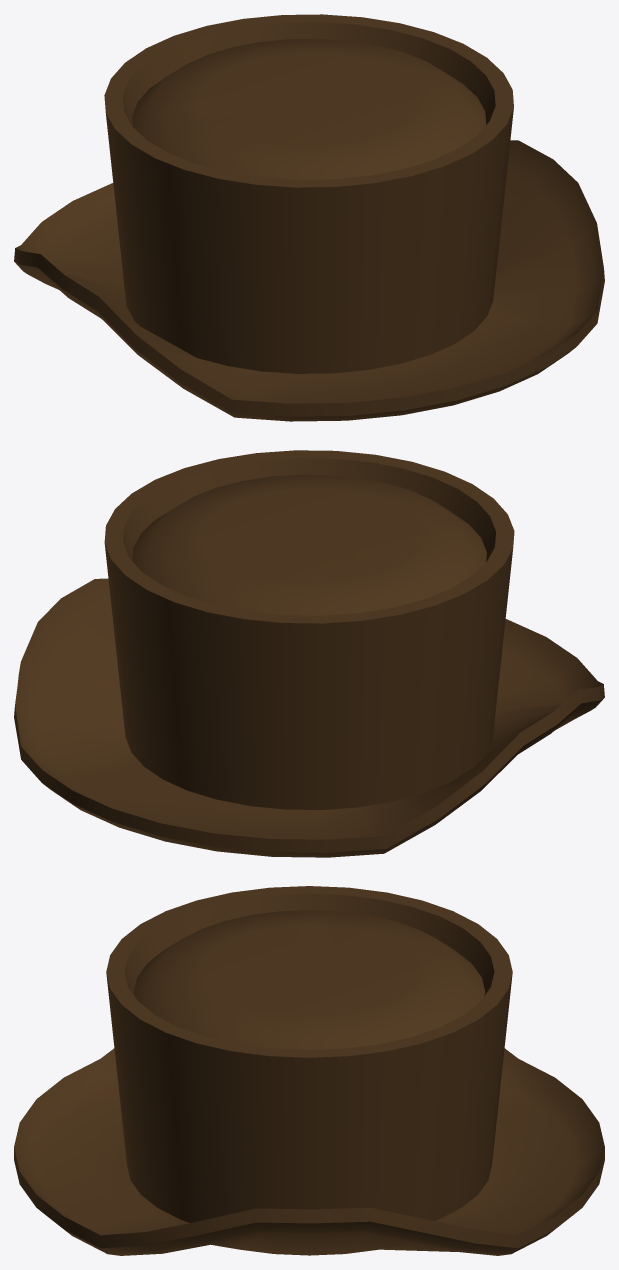
Rendered from porkpiehat.fbx.
3 views of the same model, one above another, from view 1: azimuth 30°, elevation 25°; view 2: azimuth 150°, elevation 25°; view 3: azimuth 270°, elevation 25° (orthographic).
Parts seen in each view (by area): view 1: Circle.007; view 2: Circle.007; view 3: Circle.007.
Boxes of the visible parts, x1,y1,x2,y2 form: Circle.007: (14, 14, 604, 421); Circle.007: (14, 450, 604, 857); Circle.007: (14, 886, 604, 1255).
Bounding box in the file's own units: 78.41 × 30.43 × 75.24.
